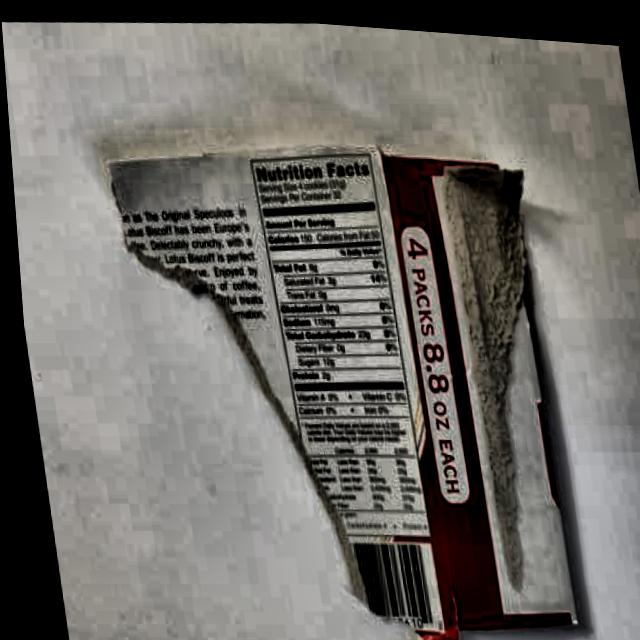Paper: (86, 108, 588, 640)
